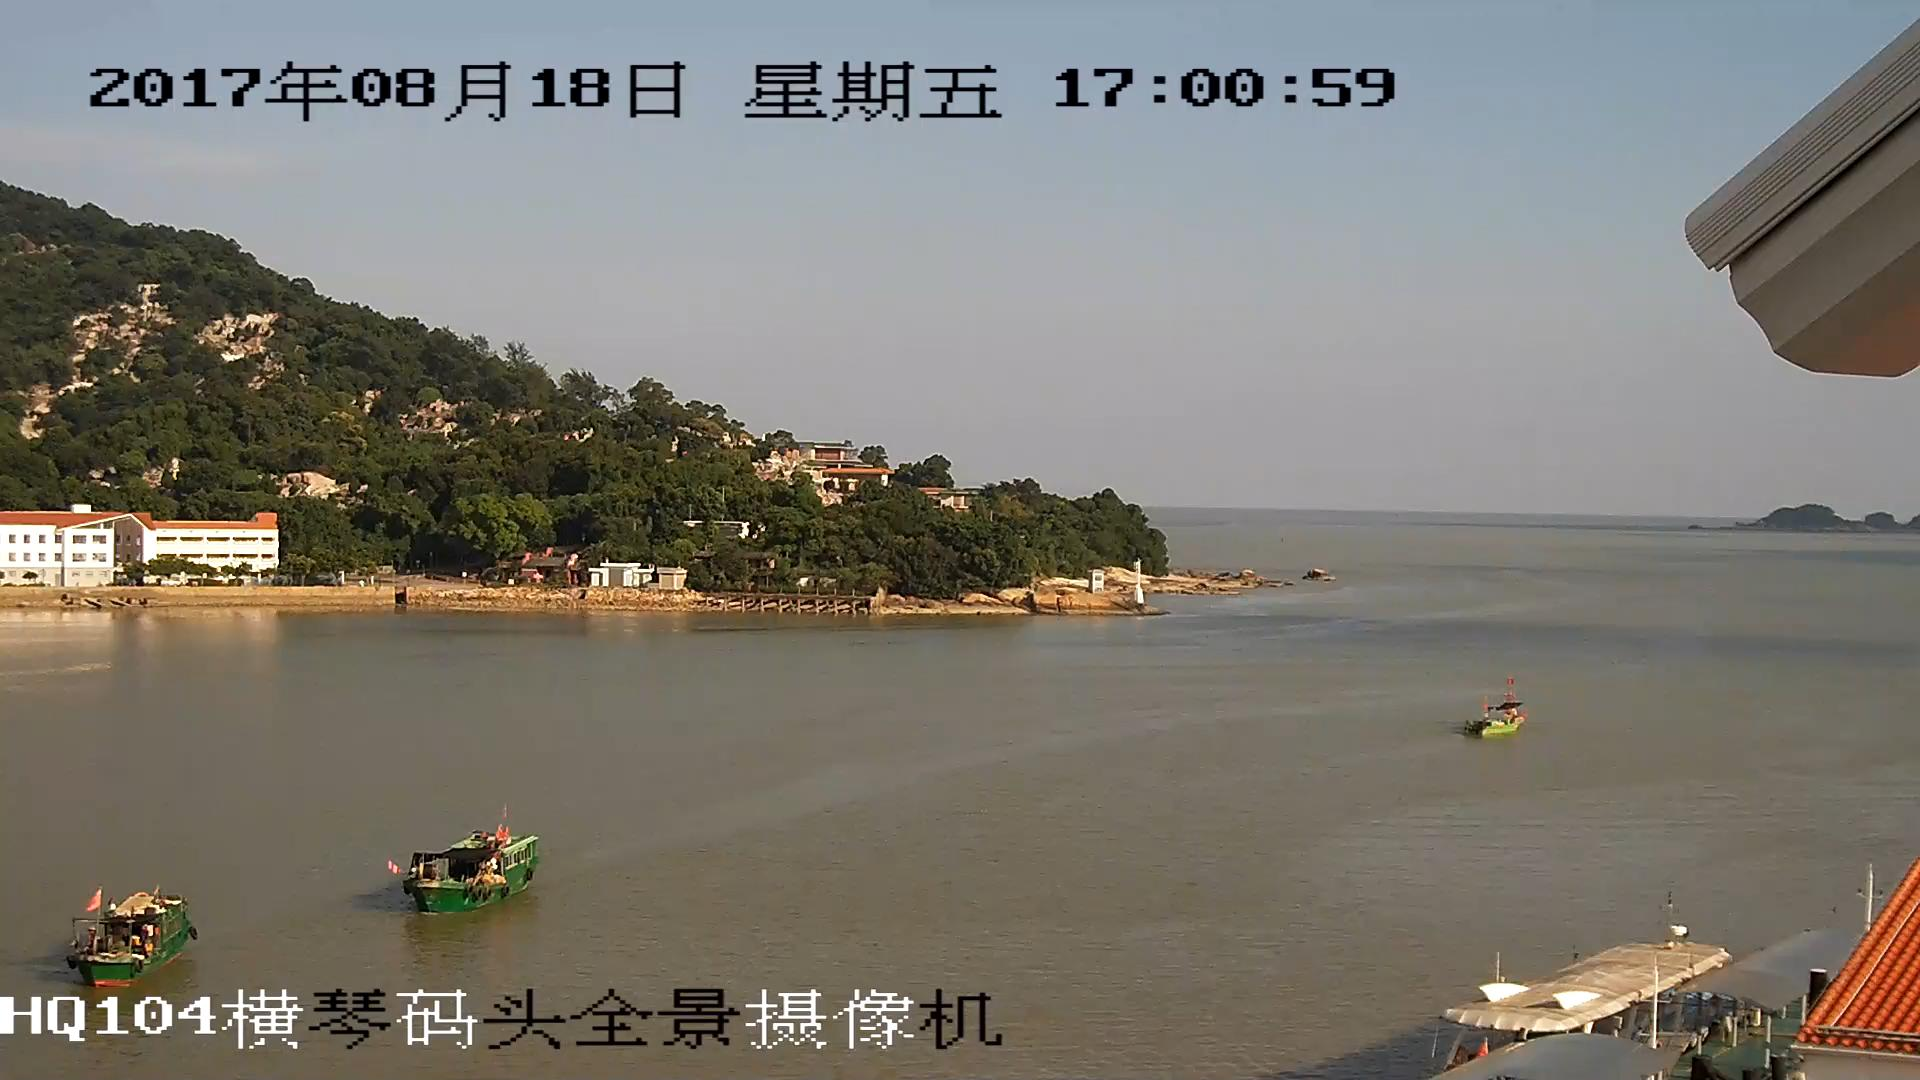fishing boat: (395, 831, 534, 911), (70, 890, 220, 963), (1473, 710, 1518, 736)
